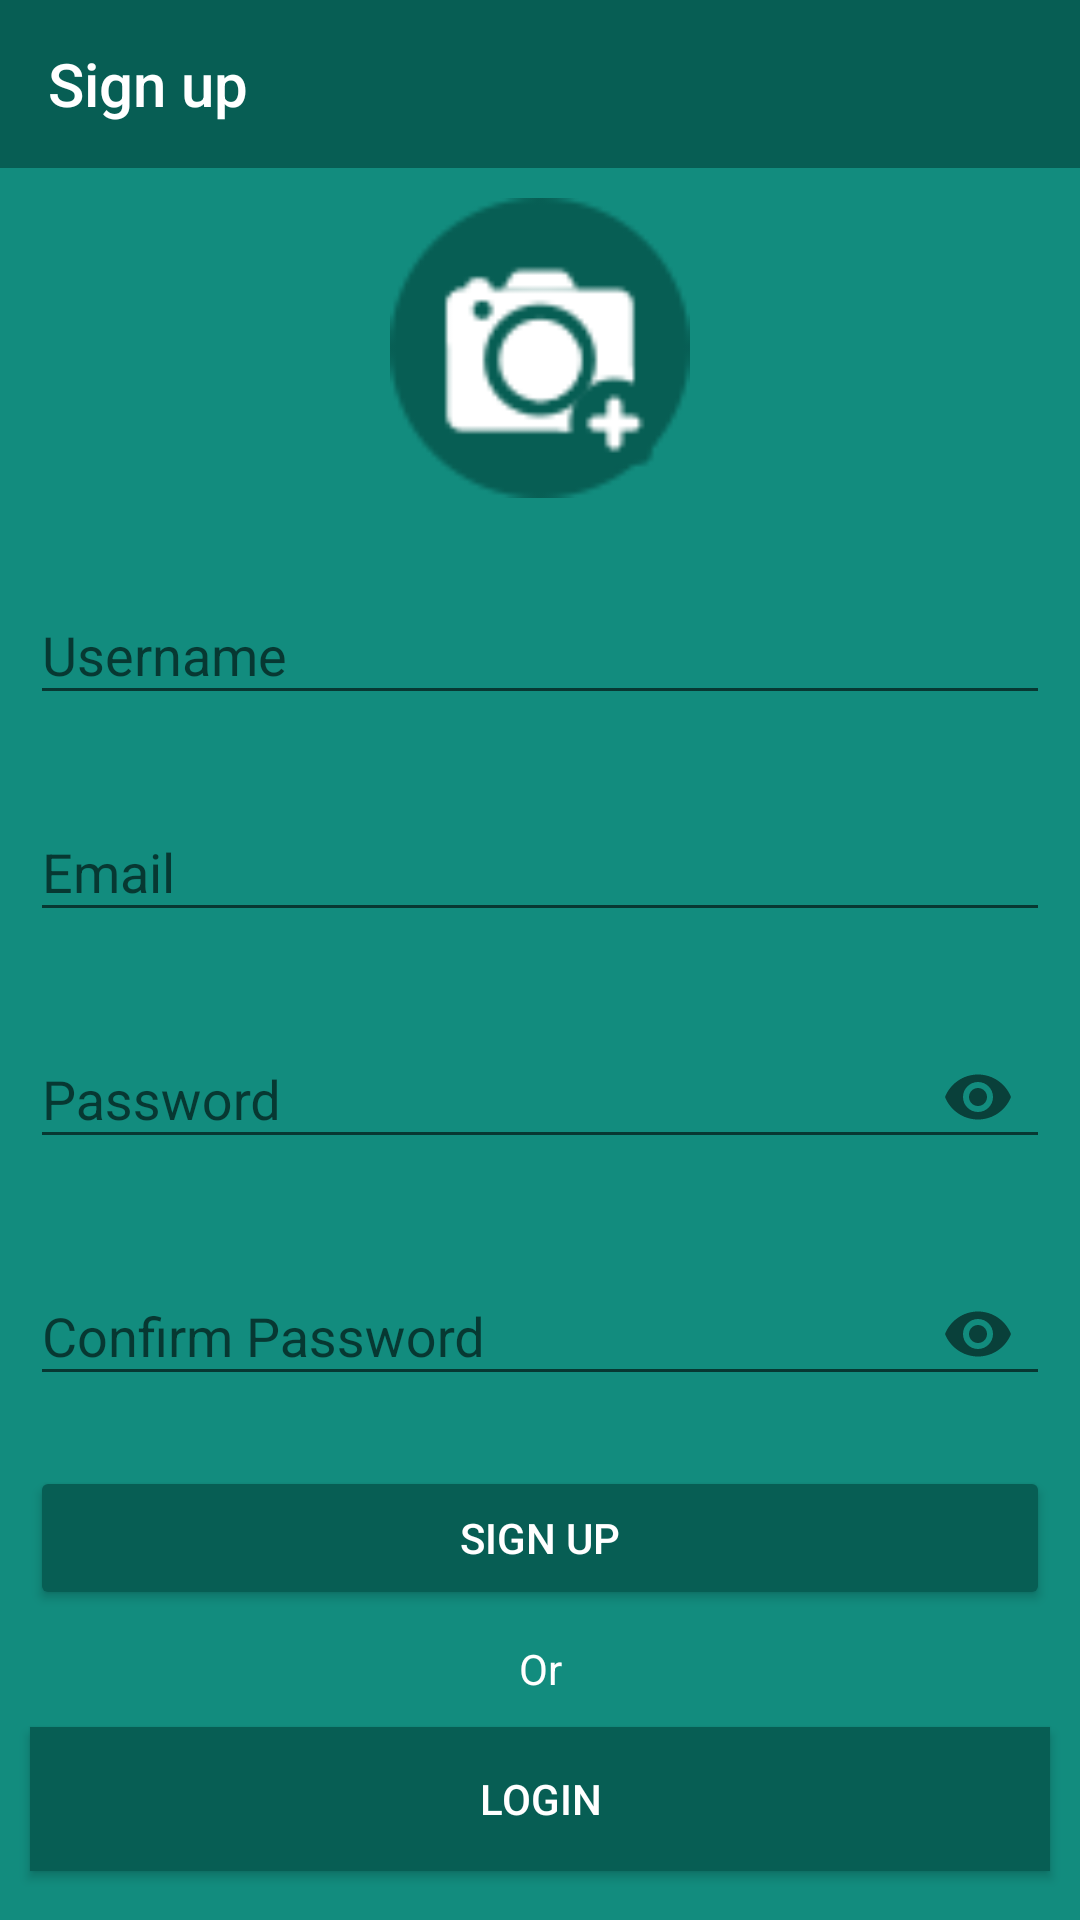

Icon click points for this 1080px x 1920px phone screenshot, format point (x, y):
addphoto: point (540, 348)
